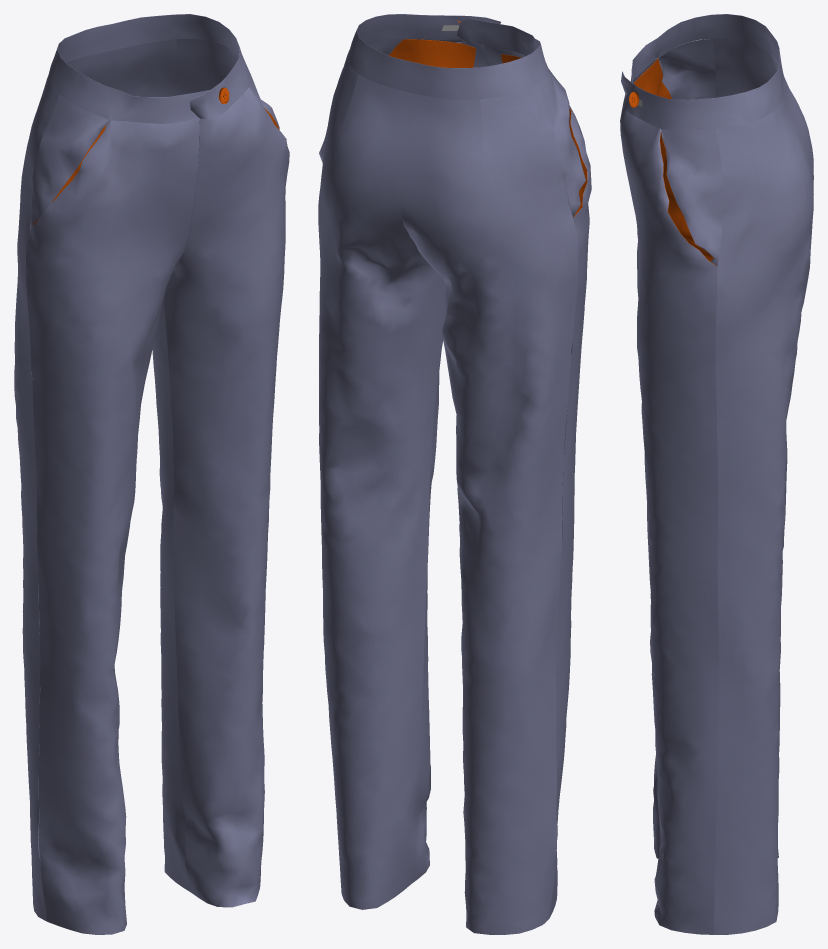
3 views of the same model, side by side, from view 1: azimuth 30°, elevation 25°; view 2: azimuth 150°, elevation 25°; view 3: azimuth 270°, elevation 25° (orthographic). The views are drawn at different scales.
Visible parts, largest first — view 1: Pattern2D_766542, Pattern2D_766544, AMFI BAP_2, AMFI BAP_3, OPC00WAB4, Pattern2D_766543; view 2: AMFI BAP_3, AMFI BAP_2, OPC00WAB4, Pattern2D_766542, Pattern2D_766544, Pattern2D_766543, Pattern2D_766546; view 3: AMFI BAP_2, Pattern2D_766544, OPC00WAB4, Pattern2D_766545, AMFI BAP_3, Pattern2D_766543, Pattern2D_766546, Pattern2D_766542, Pattern2D_766548.
Part boxes in pixels (x1,y1,x2,y2): Pattern2D_766542: [26, 118, 199, 934]; Pattern2D_766544: [164, 86, 289, 907]; AMFI BAP_2: [103, 38, 238, 892]; AMFI BAP_3: [14, 51, 124, 921]; OPC00WAB4: [48, 14, 249, 123]; Pattern2D_766543: [29, 94, 109, 229]; AMFI BAP_3: [401, 84, 578, 934]; AMFI BAP_2: [318, 56, 446, 909]; OPC00WAB4: [347, 14, 549, 99]; Pattern2D_766542: [484, 45, 591, 917]; Pattern2D_766544: [410, 39, 462, 883]; Pattern2D_766543: [539, 69, 585, 217]; Pattern2D_766546: [389, 39, 475, 67]; AMFI BAP_2: [713, 85, 813, 934]; Pattern2D_766544: [620, 105, 718, 934]; OPC00WAB4: [621, 14, 783, 129]; Pattern2D_766545: [660, 128, 723, 266]; AMFI BAP_3: [712, 37, 813, 857]; Pattern2D_766543: [658, 39, 715, 99]; Pattern2D_766546: [660, 132, 713, 261]; Pattern2D_766542: [633, 58, 661, 858]; Pattern2D_766548: [634, 58, 671, 98].
Bounding box in the file's own units: 35.92 × 117 × 24.43.
